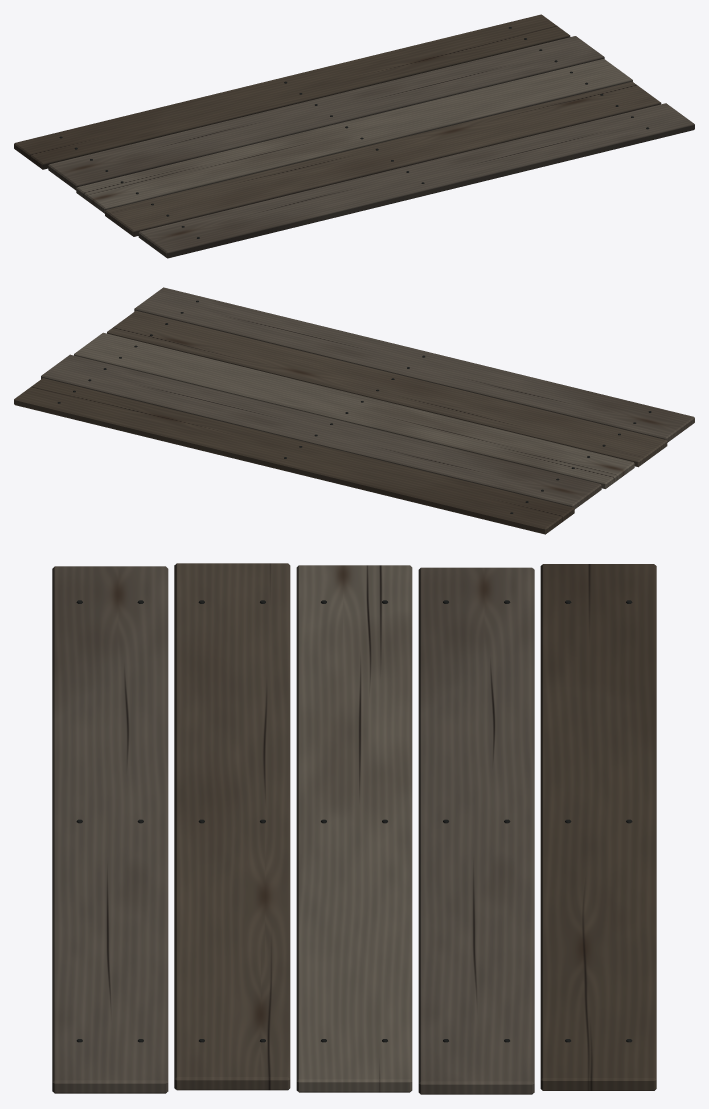
Rendered from S7U_FloorBoards_2m.fbx.
3 renders of one model, top to bottom at view 1: azimuth 30°, elevation 25°; view 2: azimuth 150°, elevation 25°; view 3: azimuth 270°, elevation 25°, orthographic. The views are drawn at different scales.
Parts seen in each view (by area): view 1: S7U_FloorBoards_2m; view 2: S7U_FloorBoards_2m; view 3: S7U_FloorBoards_2m.
Part boxes in pixels (box(x1,y1,x2,y2)): S7U_FloorBoards_2m: box(14, 14, 694, 258); S7U_FloorBoards_2m: box(14, 287, 694, 534); S7U_FloorBoards_2m: box(52, 563, 656, 1094).
Size of the model in its own units: 2.02 by 0.0265 by 0.99.
